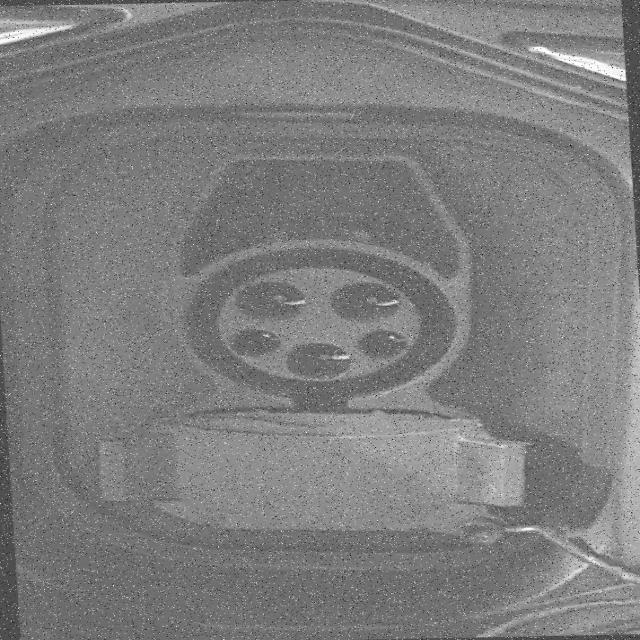Type 1: (171, 240, 477, 411)
